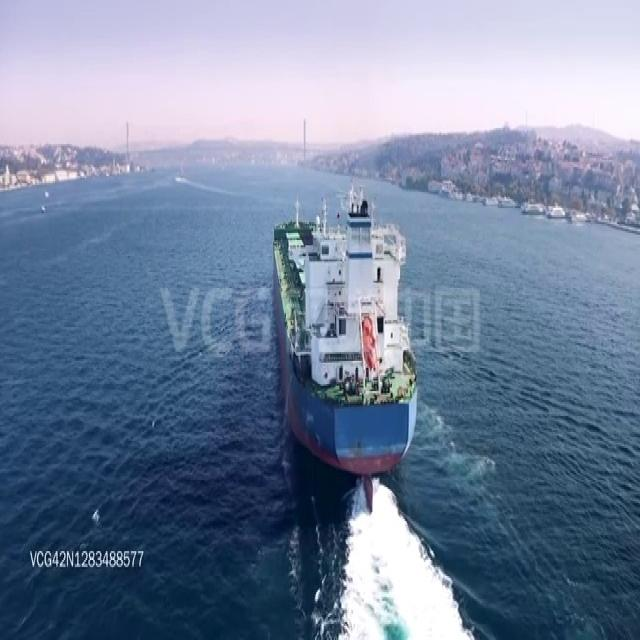cargoship: (267, 181, 421, 508)
